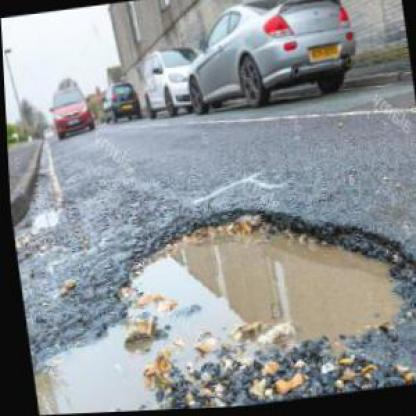pothole: (98, 180, 414, 402), (20, 302, 182, 415), (25, 203, 60, 232)
